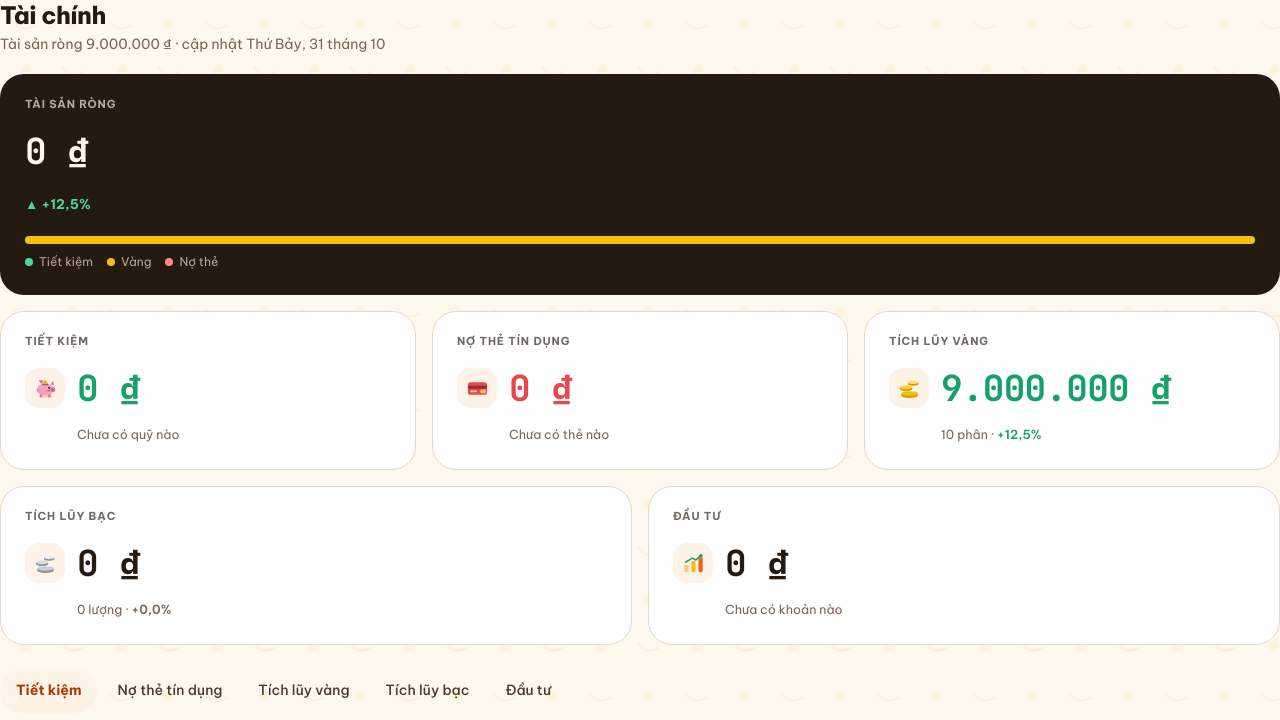
Test: FinanceView › gives away 1 phân from a purchase, then undoes it, with the pillar, net worth and history following
The image size is (1280, 720).
Click the button "Tích lũy vàng" at (304, 691), box [242,669,366,713]
(page scrolled)
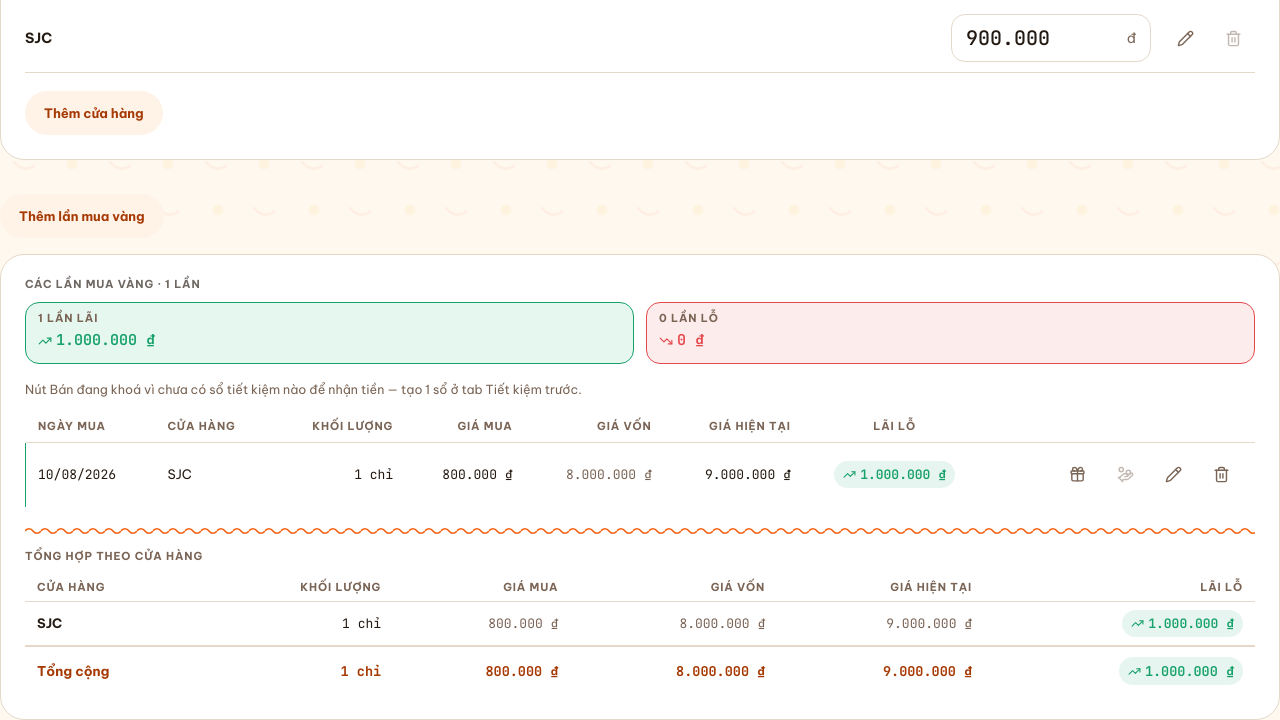
Click the button named "Tặng từ lần mua vàng 10/08/2026" at (1077, 475), box [1055,453,1099,497]
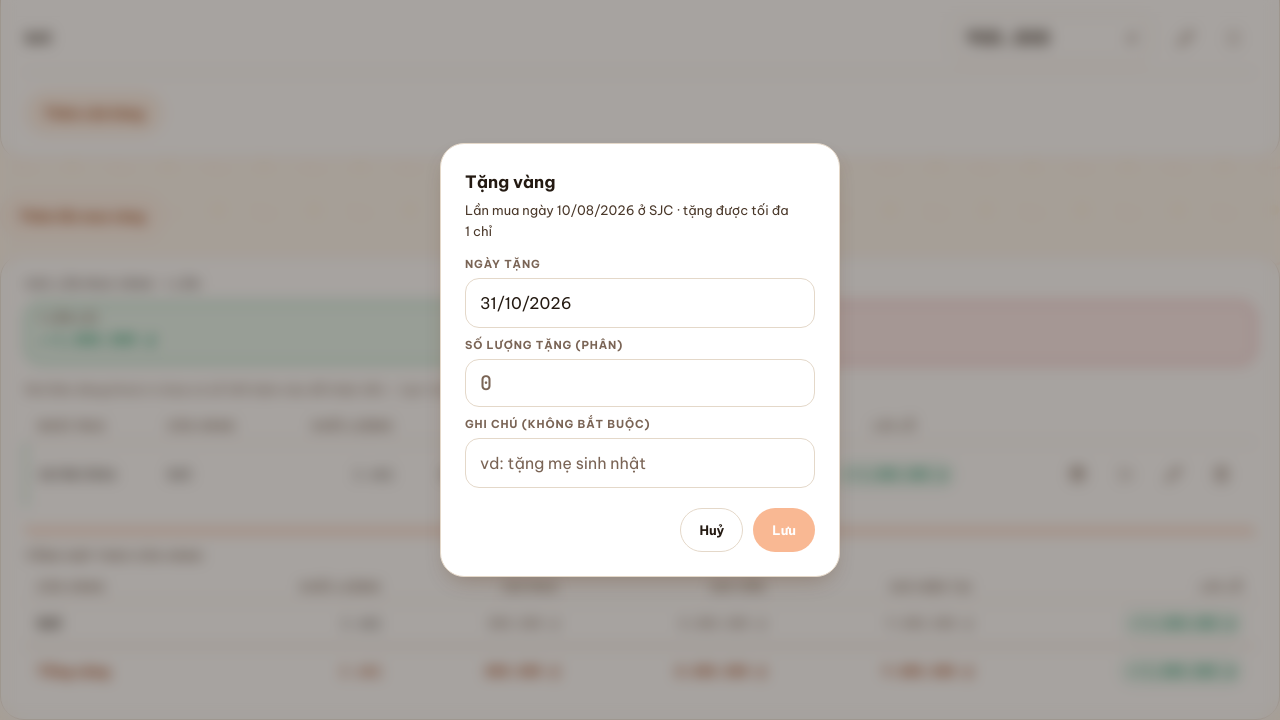
Replace the text in the field labelled "Ngày tặng" with "12/10/2026" at (640, 303), box [480,279,800,327]
Type "1" into the field labelled "Số lượng tặng (phân)" at (640, 383), box [480,360,800,406]
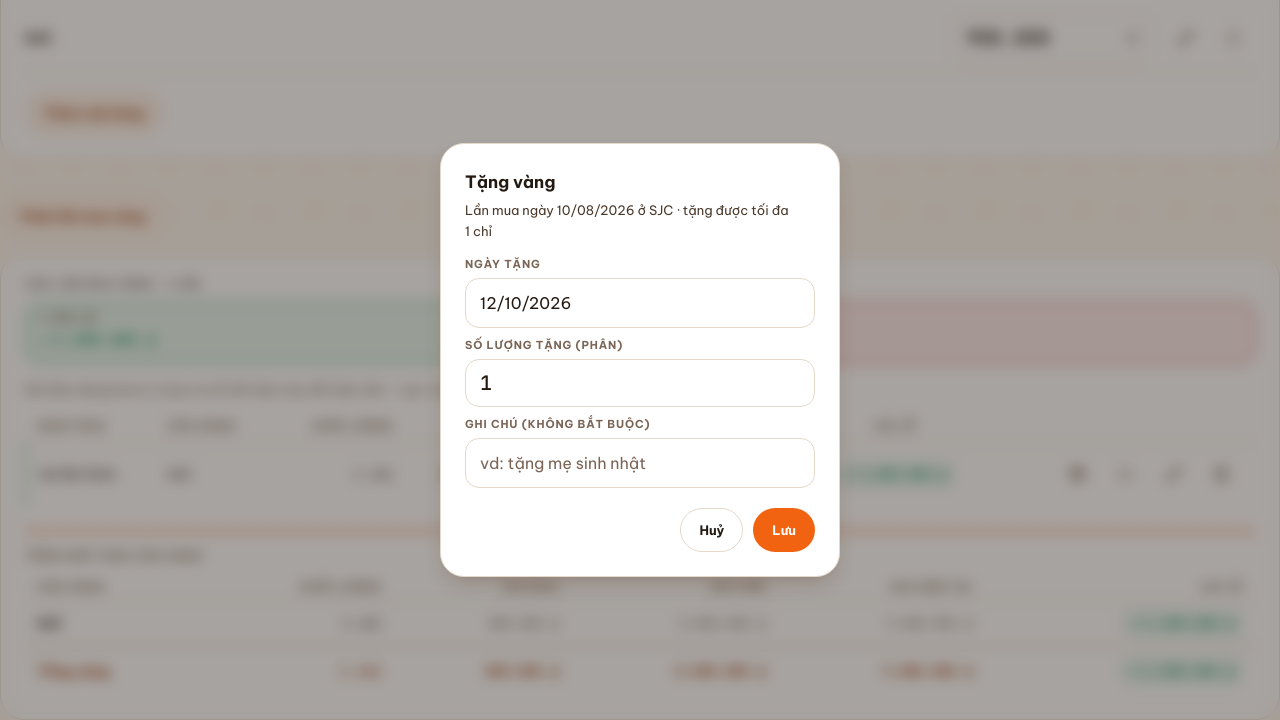
Click the button "Lưu" at (784, 530), box [753,508,815,552]
Wait 1200 ms
(page scrolled)
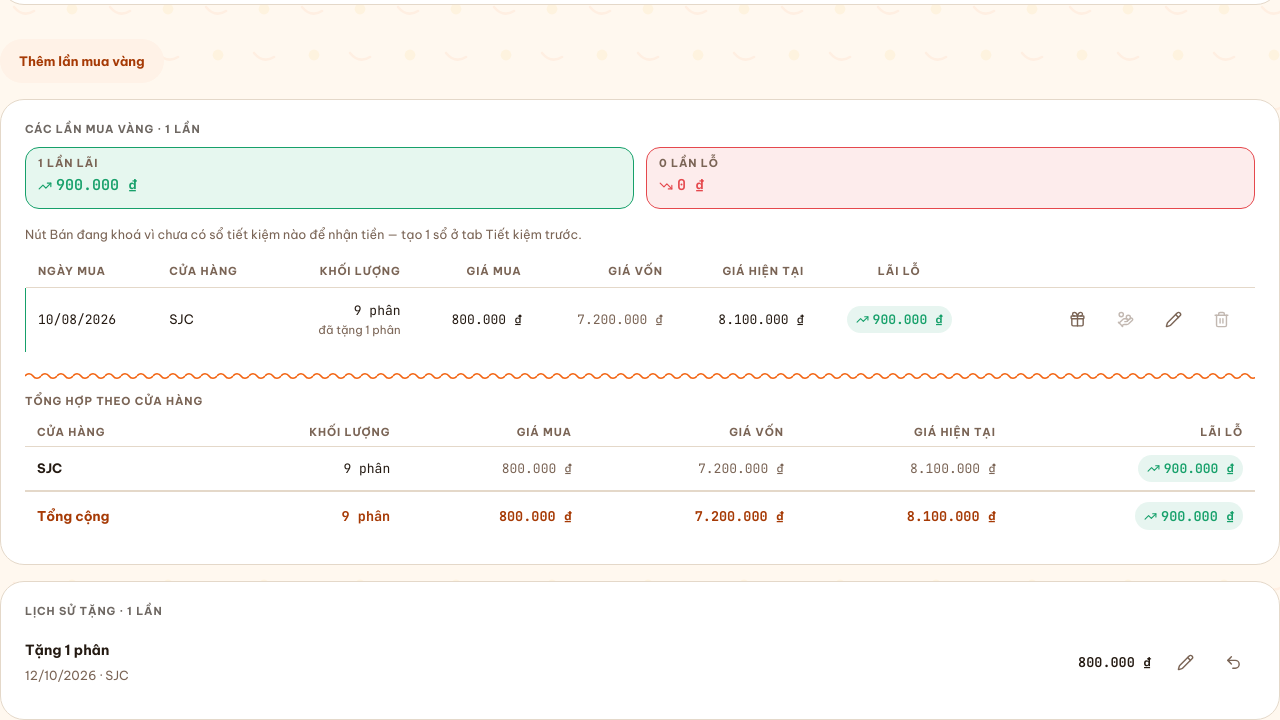
Expected: the text "Lịch sử tặng · 1 lần" is shown, [25,606,163,618]
Click the button named "Huỷ lần tặng 12/10/2026" at (1233, 662), box [1211,640,1255,684]
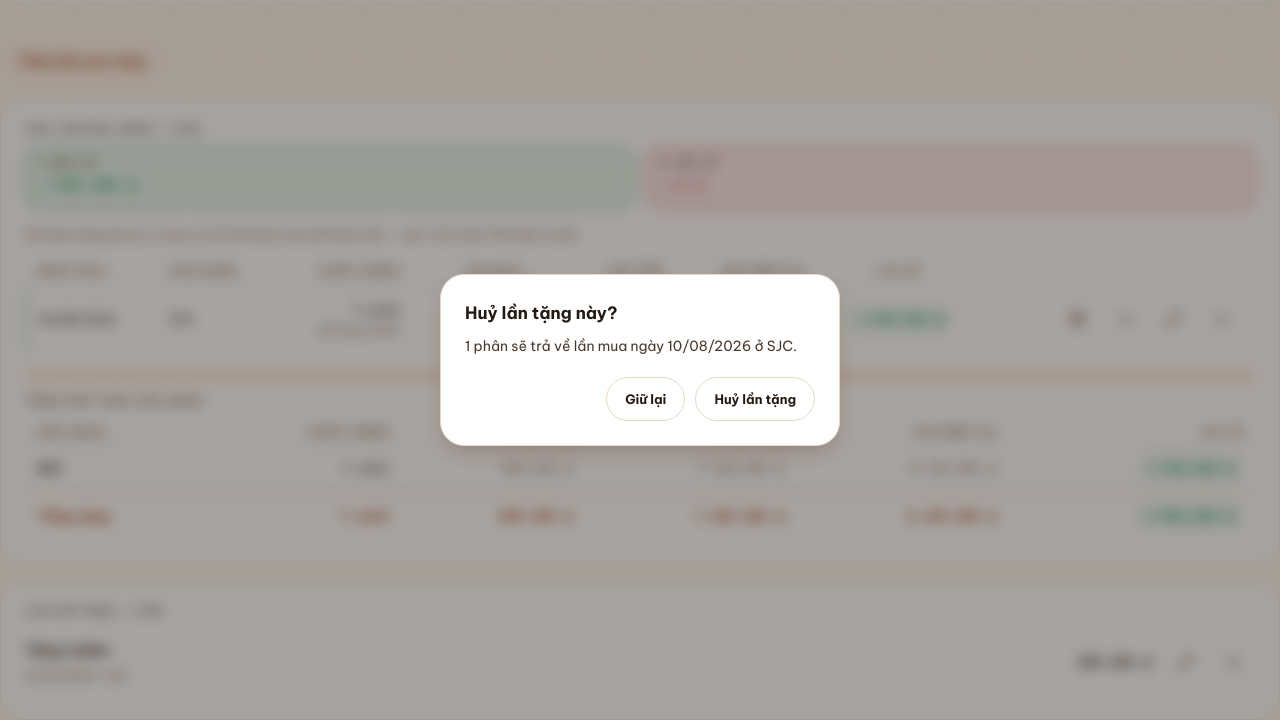
Click the button "Huỷ lần tặng" at (755, 399), box [695,377,815,421]
Wait 1200 ms
(page scrolled)
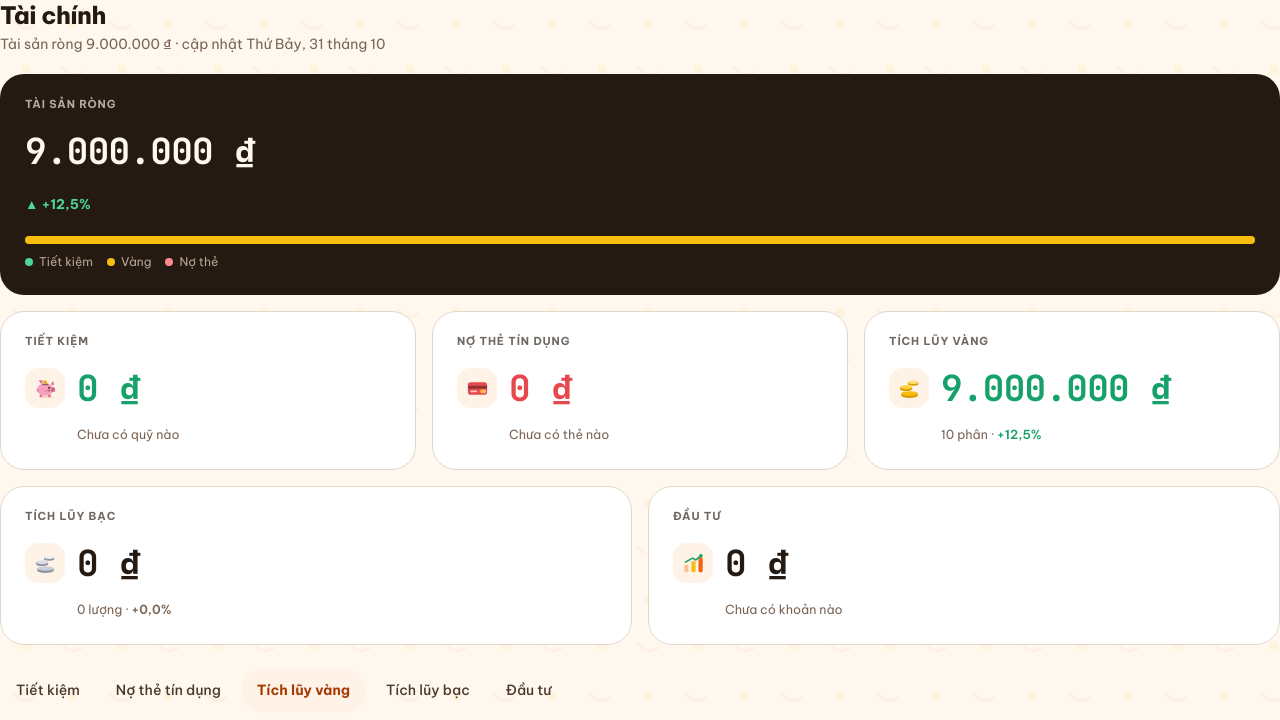
Expected: the text "Lịch sử tặng" is gone
